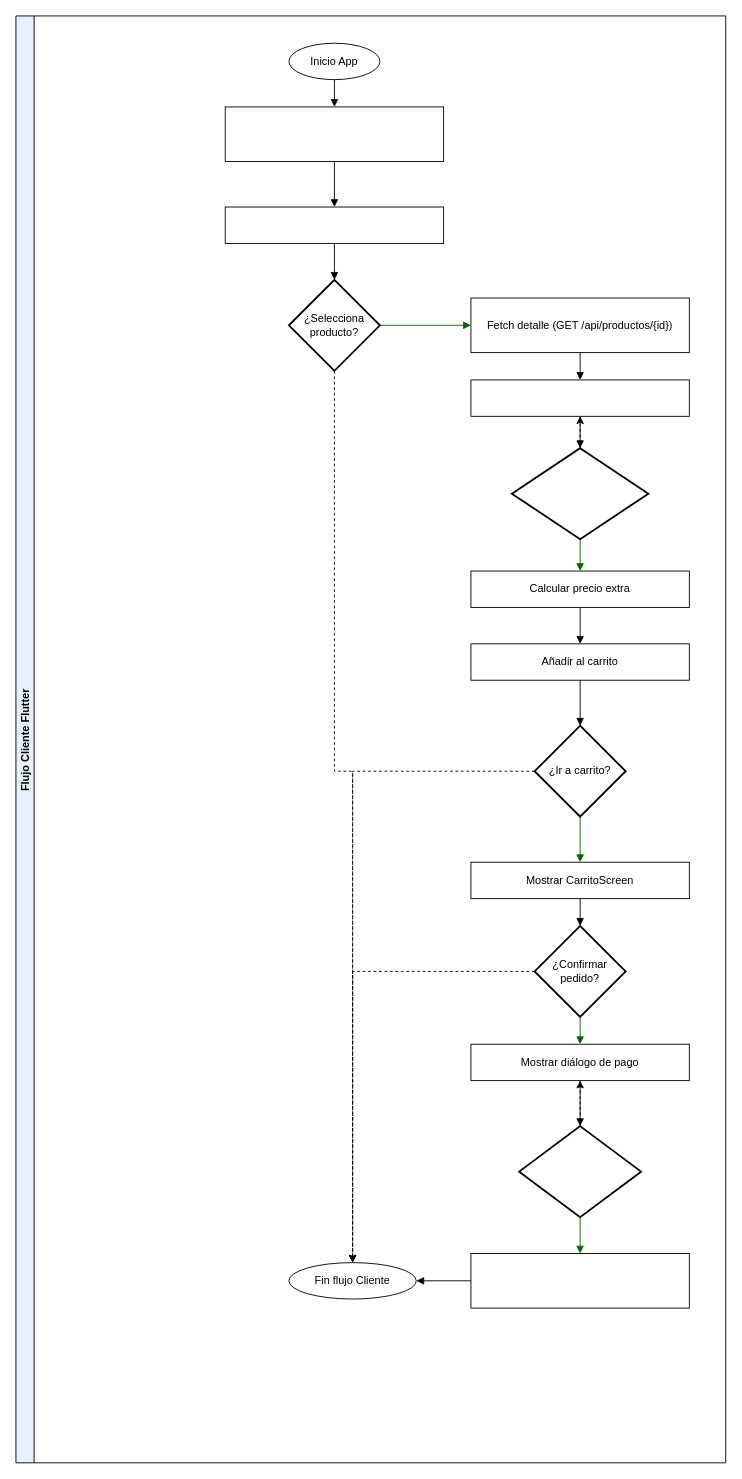
The diagram is 742 pixels wide and 1479 high, and some of its shapes have lost their labels. Here are the shapes that lost their labels. From the top down, the centre of each, then its label:
the point at 334,134: Cargar productos (GET /api/productos)
the point at 334,224: Mostrar HomeScreen
the point at 579,397: Mostrar ProductDetailScreen
the point at 580,493: ¿Pan y carne seleccionados?
the point at 580,1171: ¿Datos tarjeta válidos?
the point at 579,1280: POST /api/pedidos\ny JSON pedido
